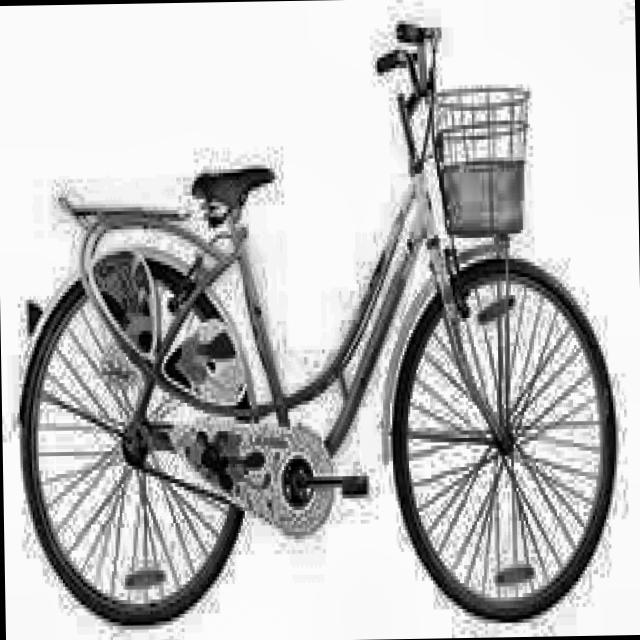bicycle: (1, 7, 623, 638)
